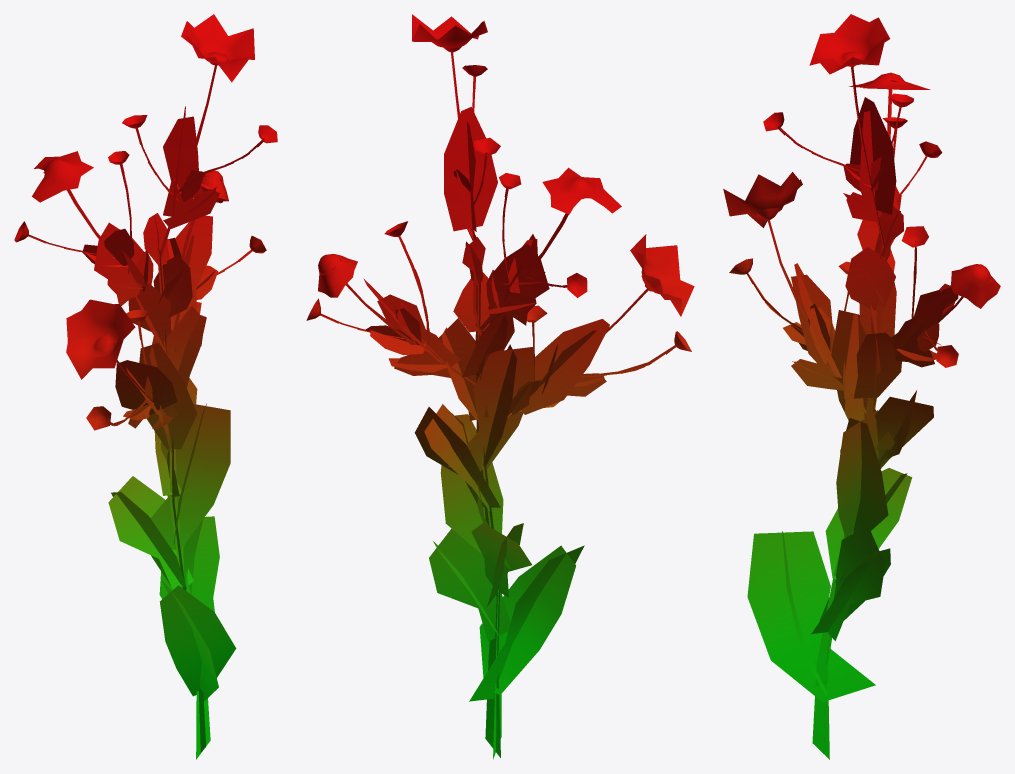
Rendered from Chamomile_LOD1_Var6_ujcnejvja.fbx.
3 renders of one model, left to right at view 1: azimuth 30°, elevation 25°; view 2: azimuth 150°, elevation 25°; view 3: azimuth 270°, elevation 25°, orthographic. The views are drawn at different scales.
Parts seen in each view (by area): view 1: _pyeo_Var6_LOD1; view 2: _pyeo_Var6_LOD1; view 3: _pyeo_Var6_LOD1.
Boxes of the visible parts, x1=… form: _pyeo_Var6_LOD1: x1=14, y1=14, x2=277, y2=759; _pyeo_Var6_LOD1: x1=306, y1=14, x2=694, y2=759; _pyeo_Var6_LOD1: x1=723, y1=14, x2=1000, y2=759.
Size of the model in its own units: 17.94 by 44.32 by 14.89.
